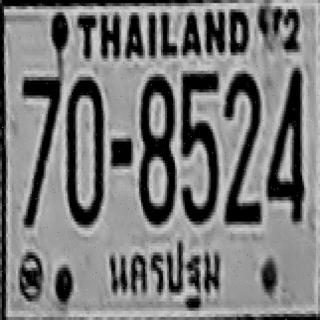N00: (65, 74, 104, 225)
N02: (223, 71, 260, 222)
N04: (264, 66, 302, 220)
N05: (180, 71, 218, 222)
N07: (22, 75, 60, 226), (22, 74, 60, 178)
N08: (138, 74, 174, 222)
P28: (100, 232, 224, 308)
